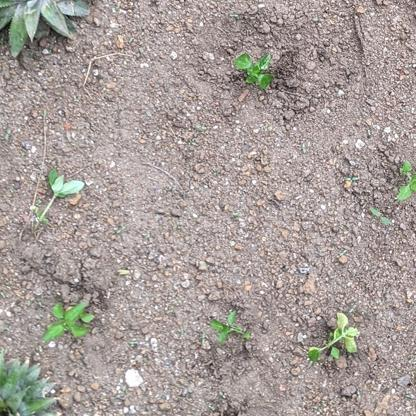pineapple: (1, 1, 93, 59), (1, 353, 62, 416)
weed: (308, 310, 365, 362), (40, 300, 101, 344), (38, 167, 86, 222), (232, 51, 276, 90), (208, 308, 246, 341), (390, 159, 416, 204)
